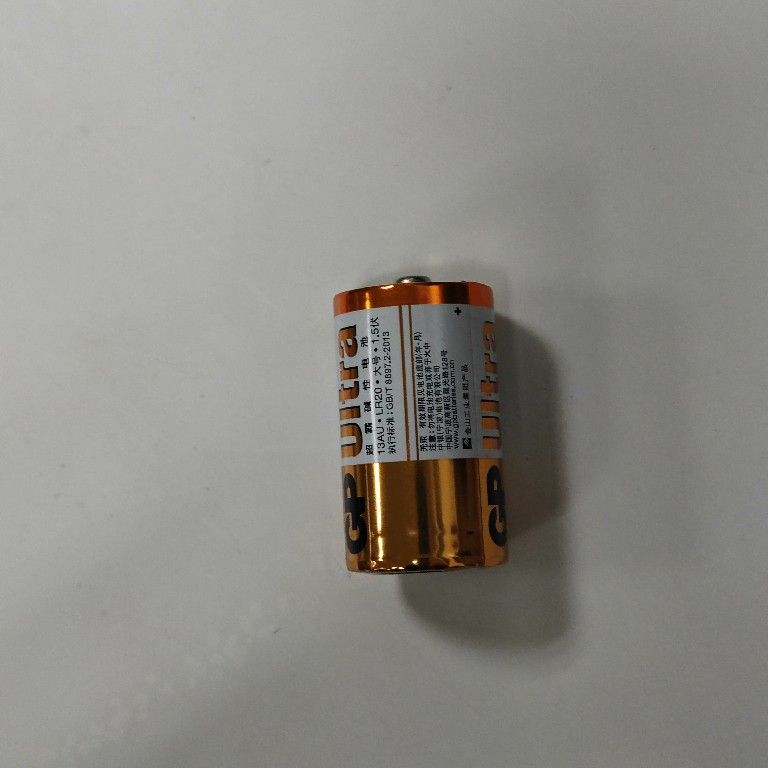charge: (325, 271, 520, 581)
